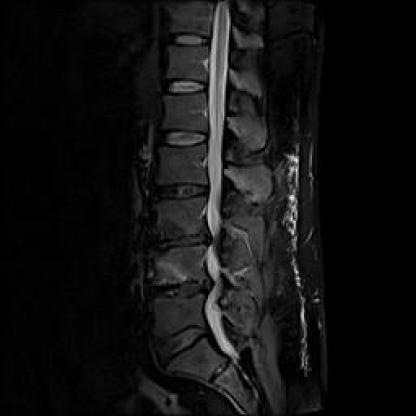Disc Bulgerotation: (142, 324, 219, 368), (143, 228, 215, 254)
